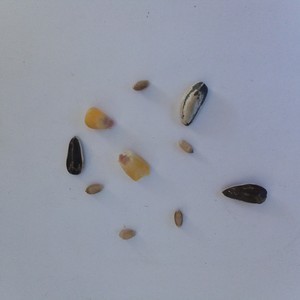girasol: (176, 79, 209, 130), (219, 180, 269, 208), (65, 133, 86, 177)
maiz: (115, 148, 152, 183), (81, 104, 115, 131)
trigo: (114, 226, 139, 242), (176, 137, 197, 155), (170, 208, 186, 230), (130, 76, 150, 93), (82, 181, 104, 196)
